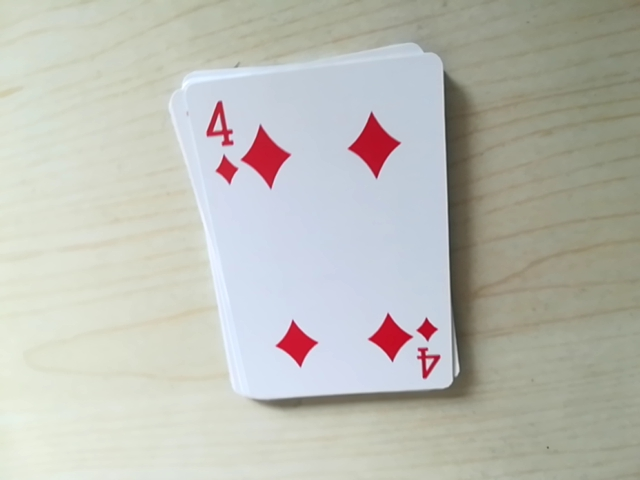fk 4: (192, 88, 235, 155), (406, 314, 444, 383)
